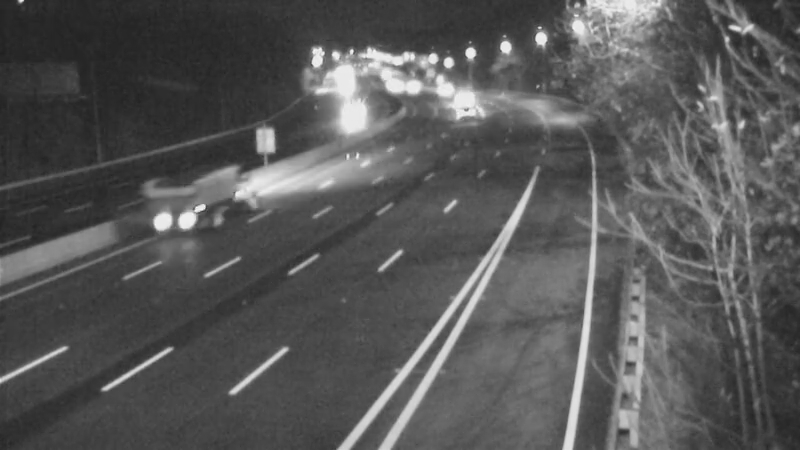vehicle: (147, 164, 227, 244), (388, 62, 438, 112), (417, 62, 467, 112), (436, 75, 486, 125), (441, 93, 491, 143), (323, 95, 373, 145)
